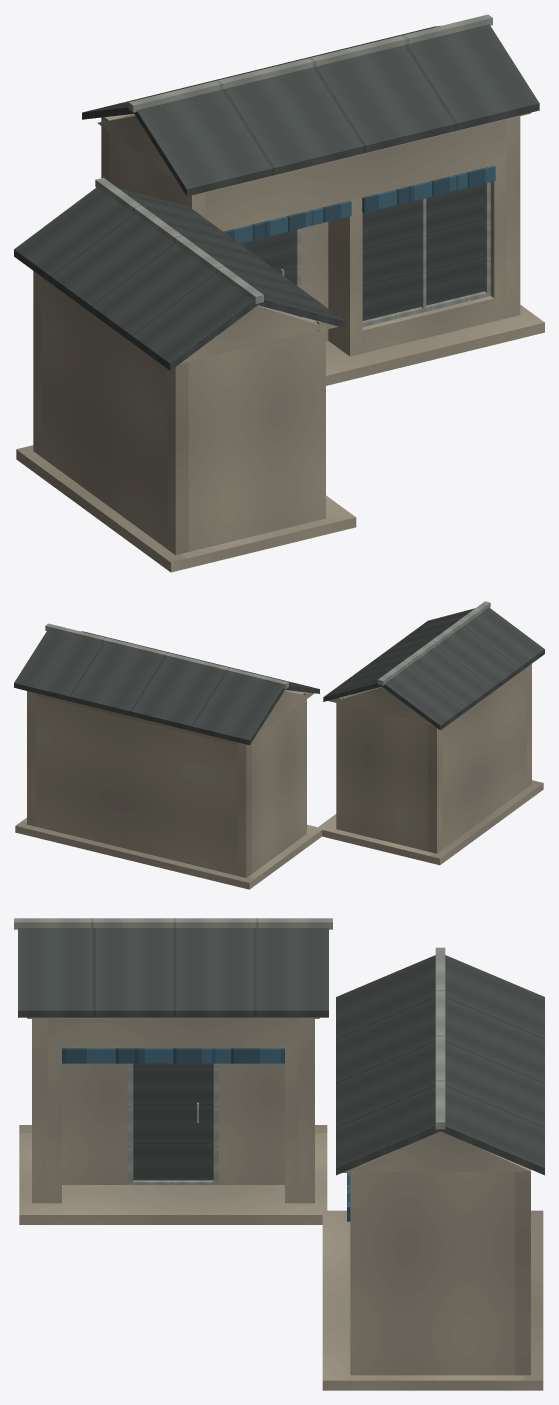
Rendered from malabo.glb.
The picture shows the model from 3 angles, top to bottom: view 1: azimuth 30°, elevation 25°; view 2: azimuth 150°, elevation 25°; view 3: azimuth 270°, elevation 25°; orthographic projection. The views are drawn at different scales.
Visible parts, largest first — view 1: malabo; view 2: malabo; view 3: malabo.
Part boxes in pixels (x1,y1,x2,y2): malabo: [14, 14, 544, 572]; malabo: [14, 601, 544, 889]; malabo: [14, 918, 544, 1390].
Bounding box in the file's own units: 7.03 × 3.43 × 6.1.
Materials: 1 (1 with a texture image).
